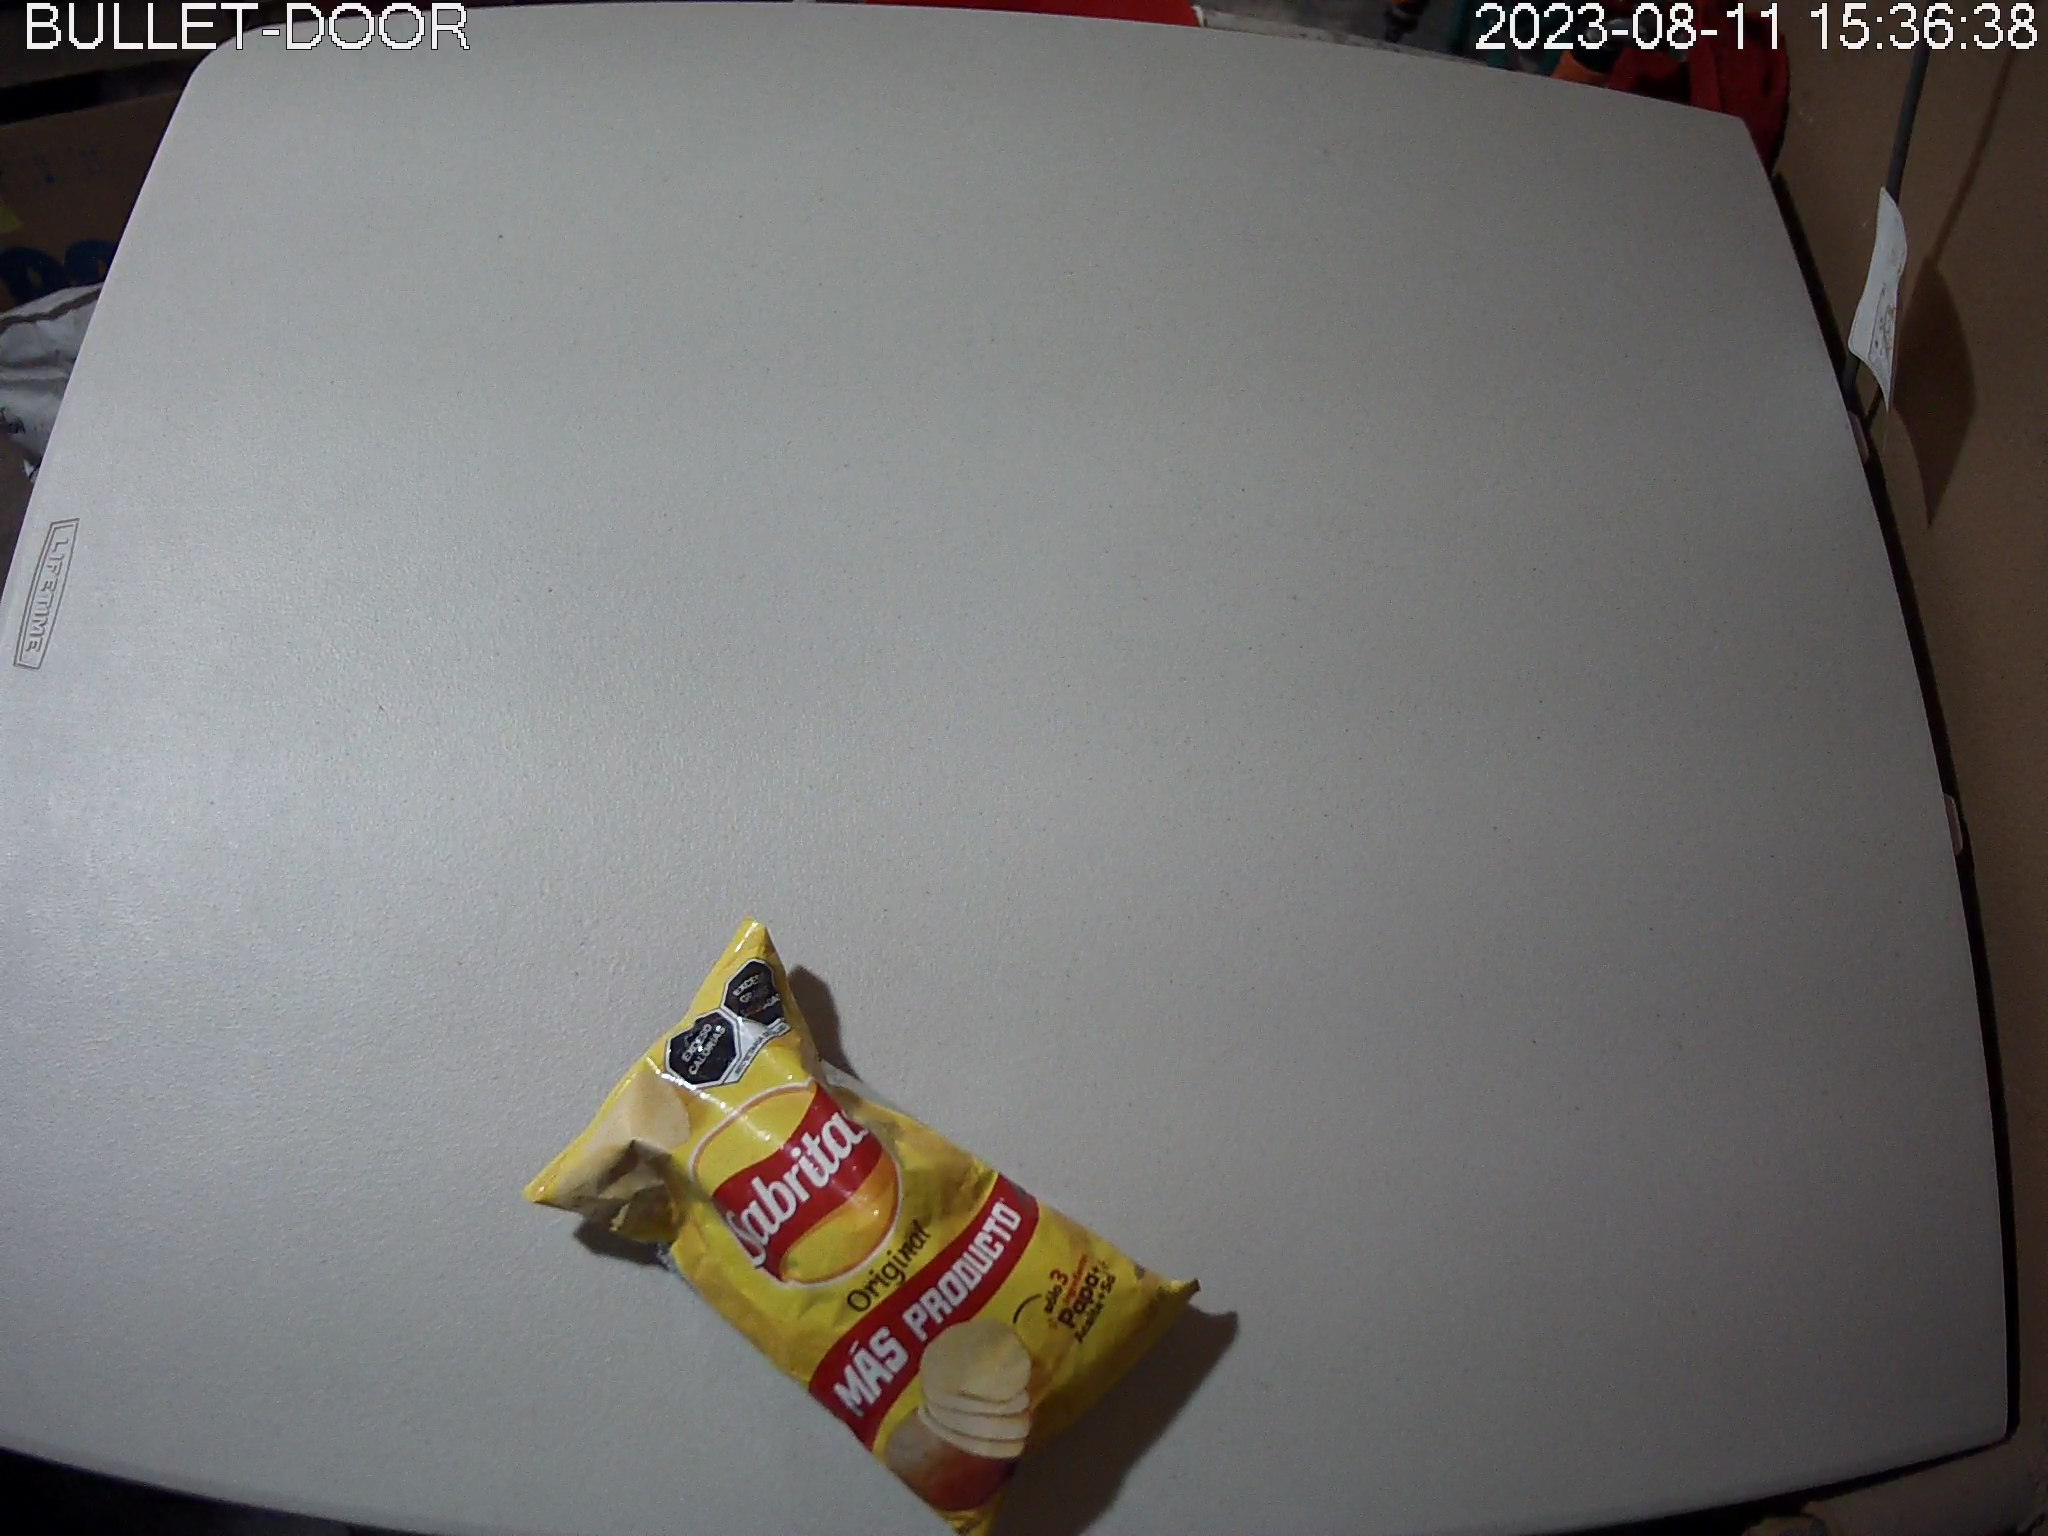Sabritas_45_F: (524, 913, 1205, 1536)
